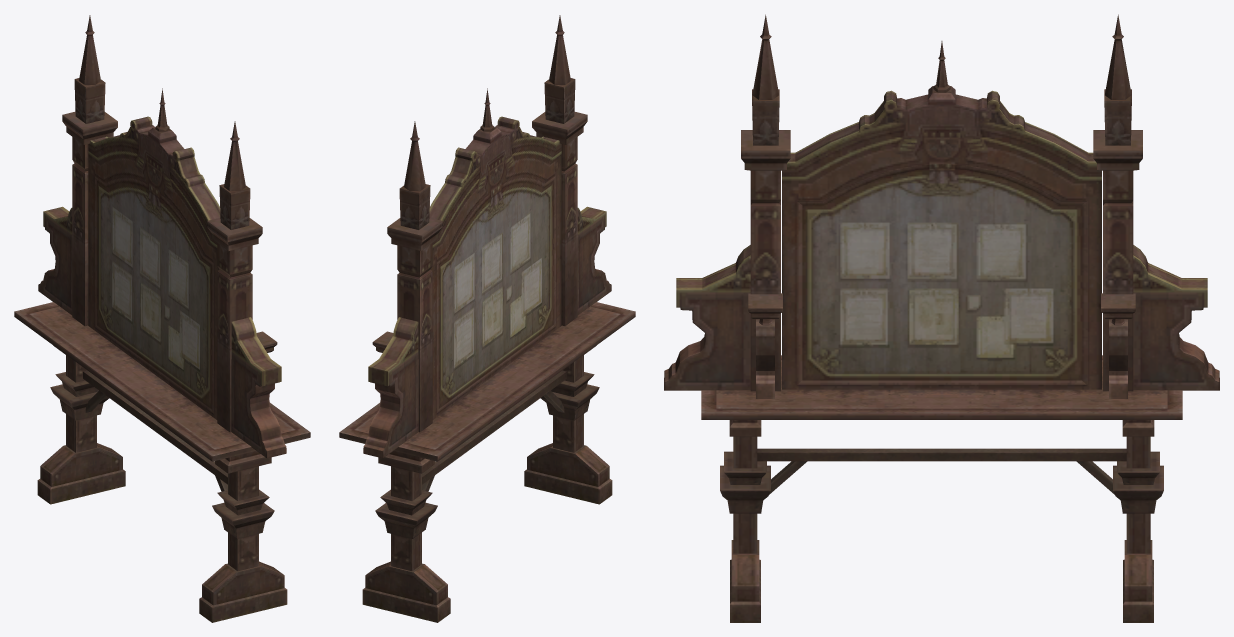
File: bg_lut_lucastle_billboard01_sm_artree.FBX
The picture shows the model from 3 angles, left to right: view 1: azimuth 30°, elevation 25°; view 2: azimuth 150°, elevation 25°; view 3: azimuth 270°, elevation 25°; orthographic projection. The views are drawn at different scales.
Visible parts, largest first — view 1: bg_lut_lucastle_billboard01_sm_artree; view 2: bg_lut_lucastle_billboard01_sm_artree; view 3: bg_lut_lucastle_billboard01_sm_artree.
Boxes of the visible parts, left/top/right/bottom form: bg_lut_lucastle_billboard01_sm_artree: left=14, top=15, right=310, bottom=622; bg_lut_lucastle_billboard01_sm_artree: left=339, top=15, right=635, bottom=622; bg_lut_lucastle_billboard01_sm_artree: left=664, top=14, right=1219, bottom=622.
Bounding box in the file's own units: 64.5 × 302 × 259.
